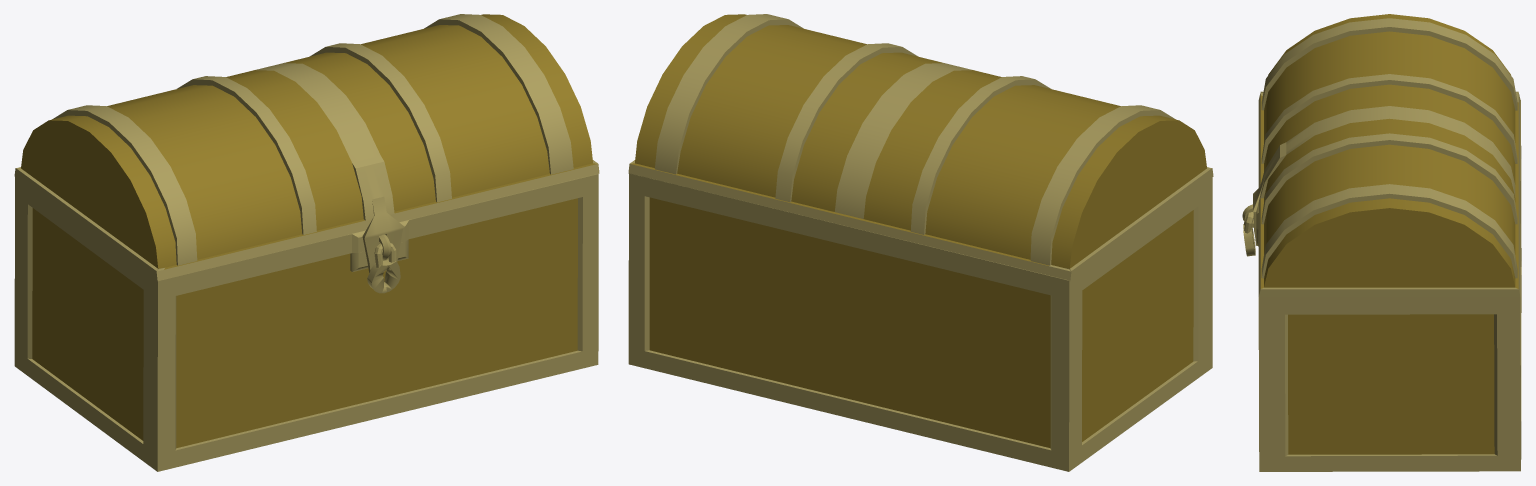
Rendered from closed chest.fbx.
3 renders of one model, left to right at view 1: azimuth 30°, elevation 25°; view 2: azimuth 150°, elevation 25°; view 3: azimuth 270°, elevation 25°, orthographic. The views are drawn at different scales.
Parts seen in each view (by area): view 1: chest_closed; view 2: chest_closed; view 3: chest_closed.
Boxes of the visible parts, <box> form: chest_closed: <box>14,14,599,471</box>; chest_closed: <box>628,14,1213,471</box>; chest_closed: <box>1242,14,1521,471</box>.
Size of the model in its own units: 439 by 277 by 262.
